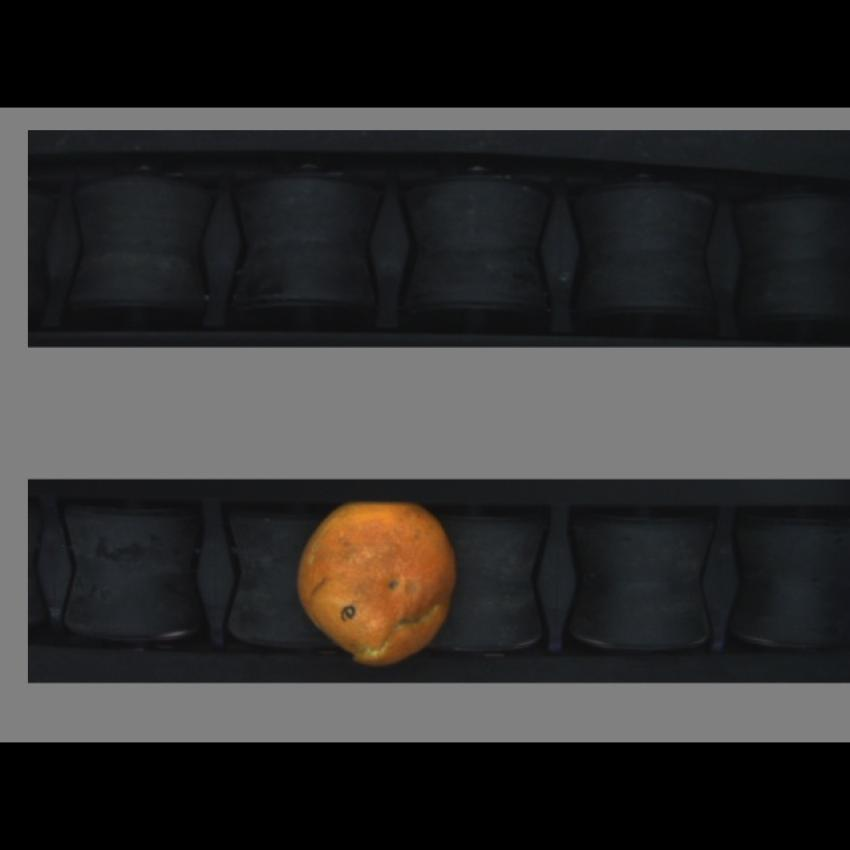Mal estado: (292, 495, 464, 670)
